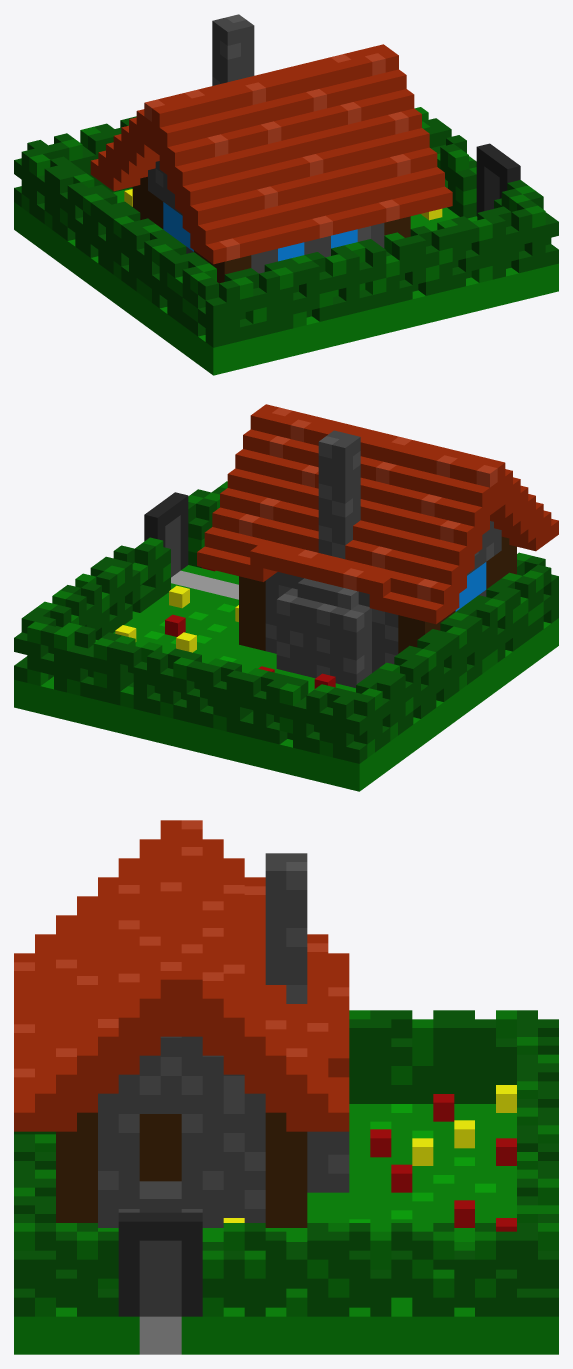
Rendered from house1.6.obj.
The picture shows the model from 3 angles, top to bottom: view 1: azimuth 30°, elevation 25°; view 2: azimuth 150°, elevation 25°; view 3: azimuth 270°, elevation 25°; orthographic projection. The views are drawn at different scales.
Bounding box in the file's own units: 2.6 × 1.8 × 2.6.
1 material, 1 textured.
